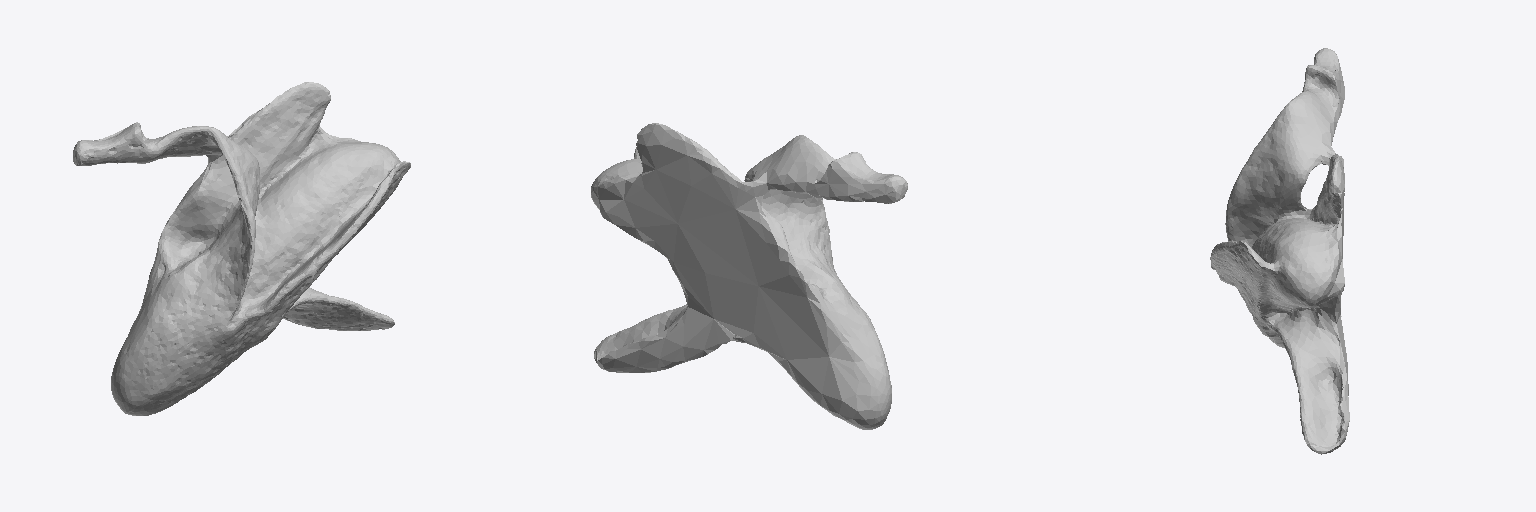
The model's file is banana.obj.
3 views of the same model, side by side, from view 1: azimuth 30°, elevation 25°; view 2: azimuth 150°, elevation 25°; view 3: azimuth 270°, elevation 25° (orthographic).
Visible parts, largest first — view 1: obj1; view 2: obj1; view 3: obj1.
Part boxes in pixels (x1,y1,x2,y2): obj1: (73,82,410,415); obj1: (591,123,907,429); obj1: (1210,48,1349,454).
Bounding box in the file's own units: 0.1353 × 0.1139 × 0.0514.